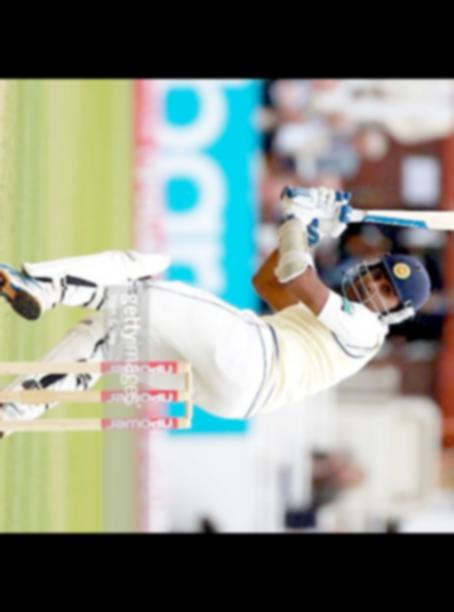batsman: (0, 158, 454, 440)
